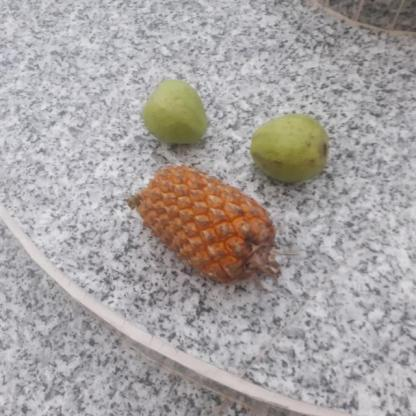guava: (247, 115, 328, 182), (140, 78, 209, 146)
pineapple: (126, 163, 280, 284)
